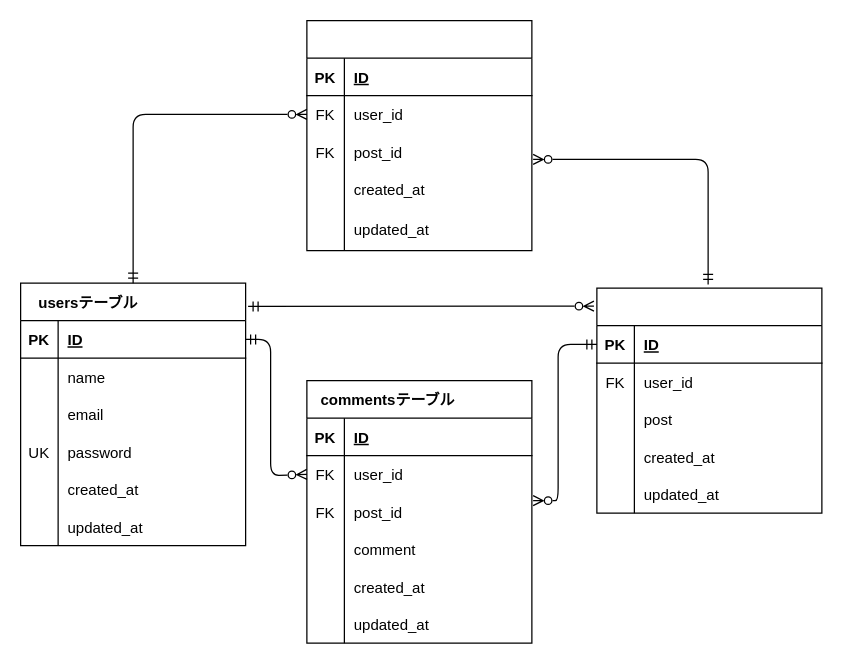
Some shapes in this 843 by 664 pixel diagram are drawn without their labels. Each missing label, with the box of its shape:
likesテーブル: (306, 19, 532, 251)
postsテーブル: (596, 287, 822, 513)
